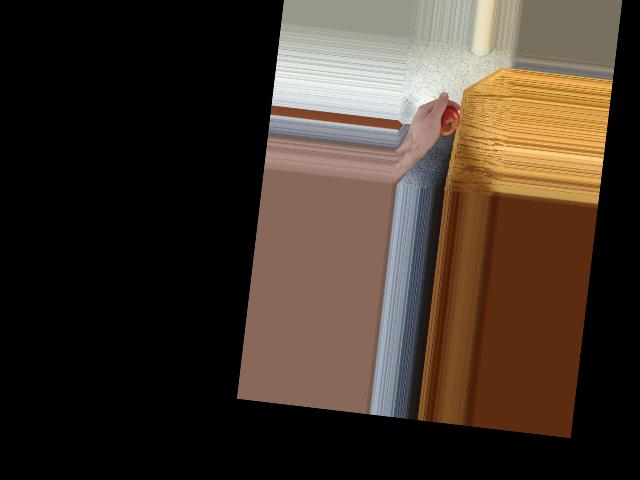apple: (428, 103, 463, 139)
